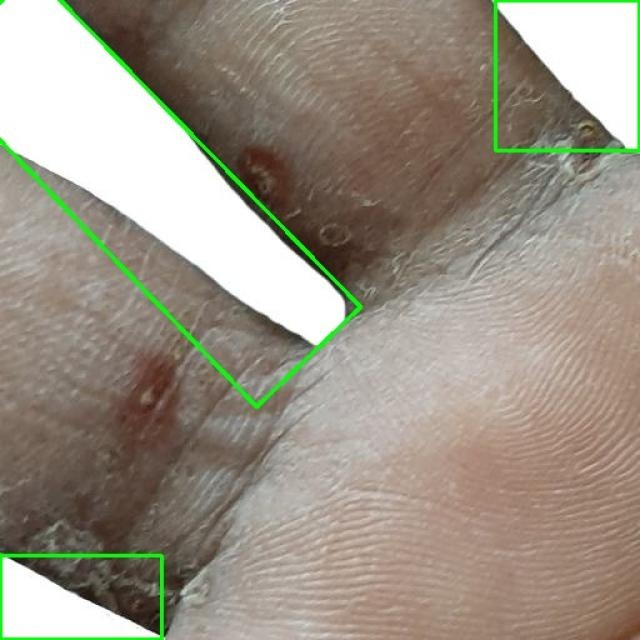Scabies: (0, 0, 360, 410), (495, 0, 639, 150), (0, 555, 161, 639)
